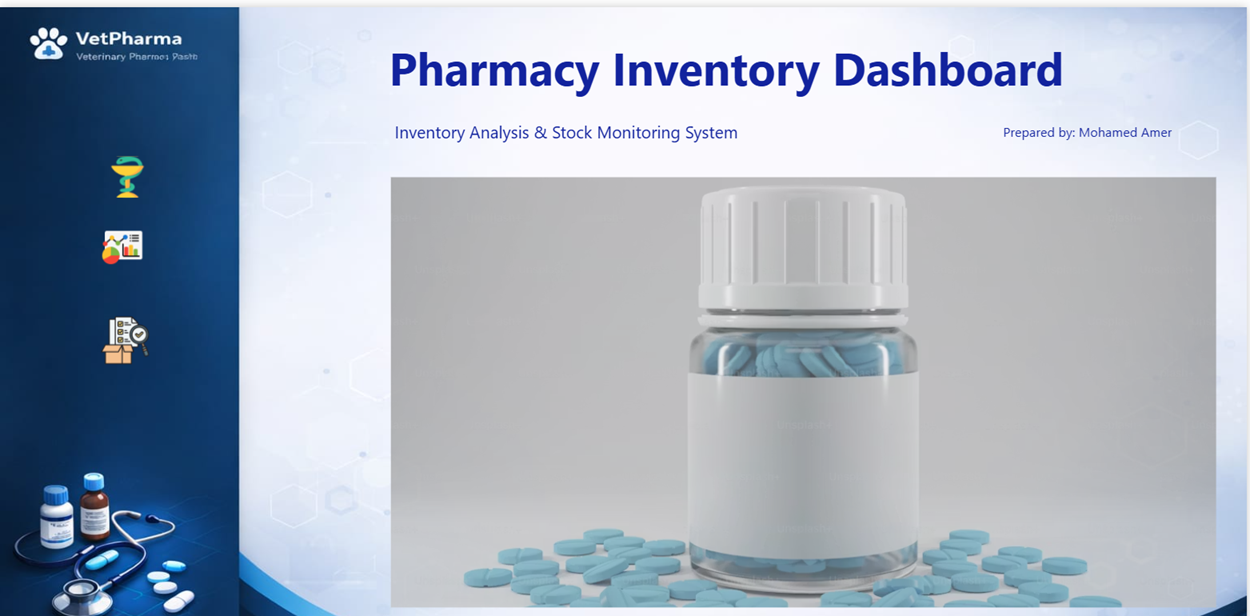

The dashboard page shown, as its layout file describes it:
{"tool":"powerbi","page":{"name":"Cover","canvas":[1280,720],"ordinal":0},"visuals":[{"type":"actionButton","box":[105.3,147.2,50.5,54.8],"z":0},{"type":"actionButton","box":[99.5,220.7,57.7,51.9],"z":1000},{"type":"actionButton","box":[99.5,313.1,57.7,57.7],"z":2000},{"type":"image","box":[401.7,174.9,846.9,441.6],"z":3000},{"type":"actionButton","box":[339,20.5,814.4,82],"z":4000},{"type":"actionButton","box":[401.7,107.4,371.6,39.8],"z":5000},{"type":"actionButton","box":[1011,107.4,211.1,39.8],"z":6000}]}

Visuals, with their boxes on the page's 1280x720 design canvas (x1, y1, x2, y2). These are canvas units, not pixel positions in the 1250x616 screenshot, which may show the page scaled, cropped or inside an application window:
actionButton: x1=105 y1=147 x2=156 y2=202
actionButton: x1=100 y1=221 x2=157 y2=273
actionButton: x1=100 y1=313 x2=157 y2=371
image: x1=402 y1=175 x2=1249 y2=616
actionButton: x1=339 y1=20 x2=1153 y2=102
actionButton: x1=402 y1=107 x2=773 y2=147
actionButton: x1=1011 y1=107 x2=1222 y2=147
